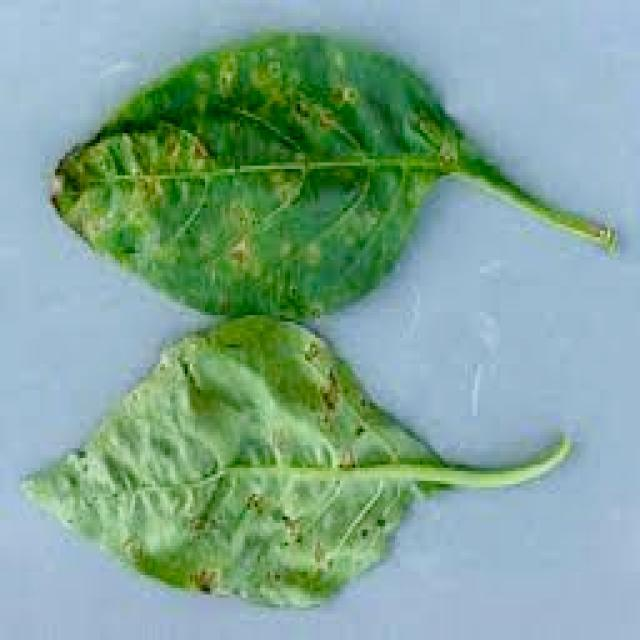Bercak Daun Serkospora: (21, 312, 475, 611), (49, 22, 484, 322)
